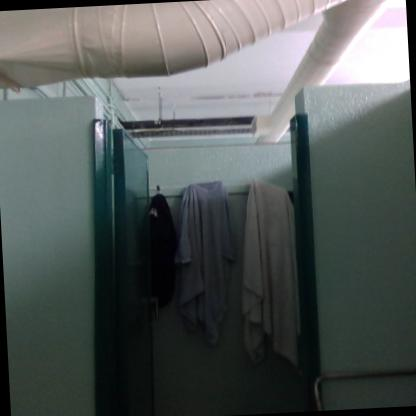open: (78, 84, 338, 412)
